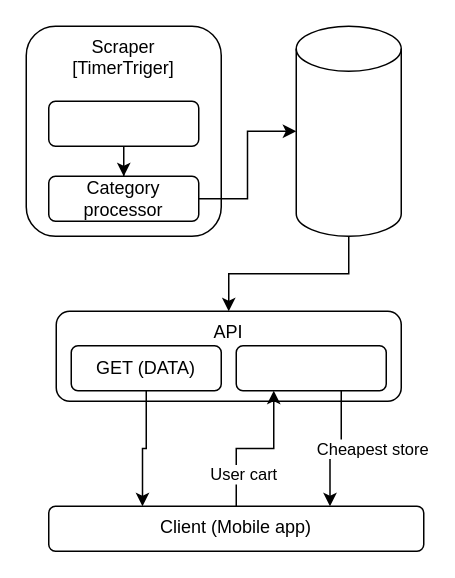
The diagram is 455 pixels wide and 578 high, and some of its shapes have lost their labels. The shapes that lost their labels are listed below. From the top down, each one's centre as x and y in pixels, then its label:
At [123,123]: "Scraper".
At [348,130]: "DB".
At [310,367]: "Cart Finder".
